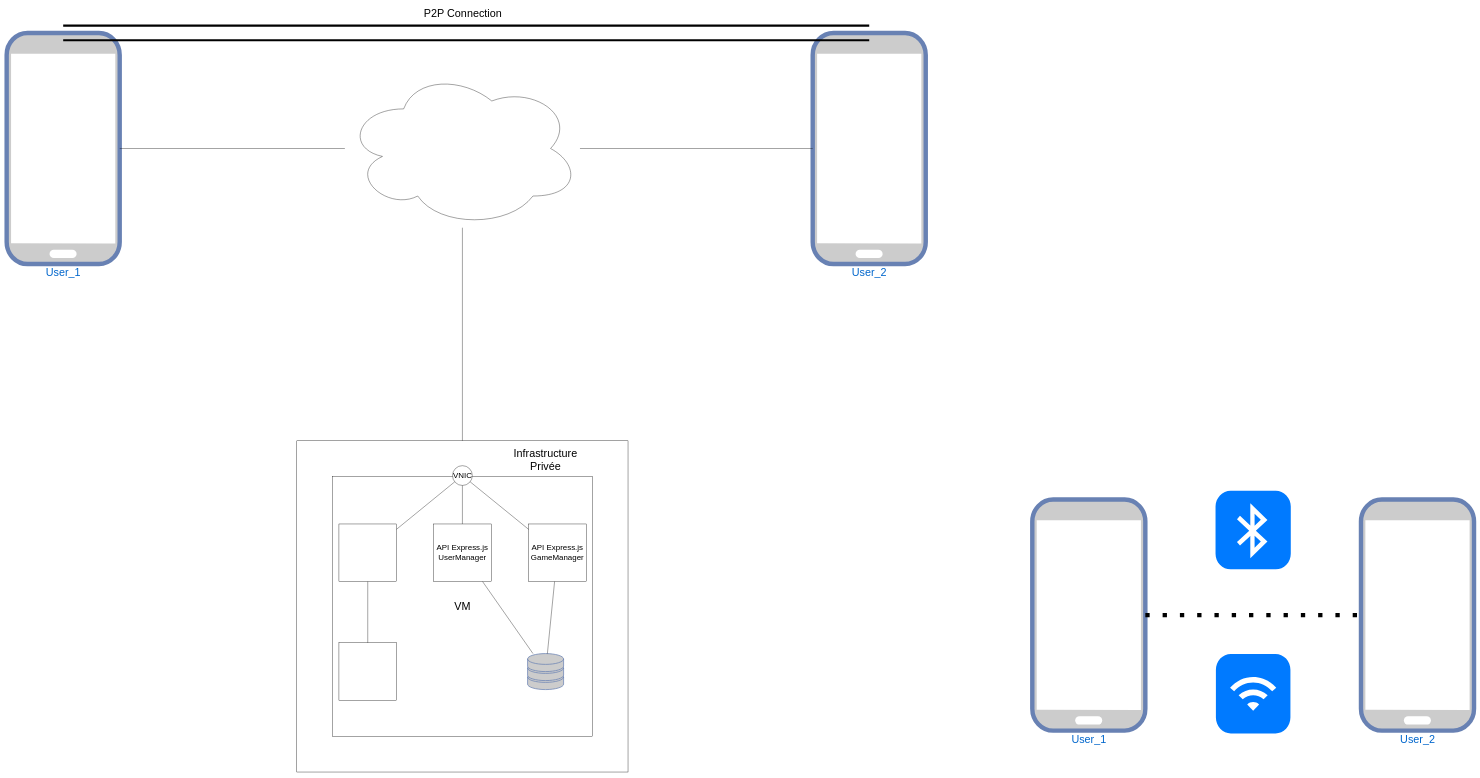
Some shapes in this 1480 by 778 pixel diagram are drawn without their labels. Here are the shapes that lost their labels. From the top down, the centre of each, then its label:
At (x=462, y=148): "Public Network".
At (x=368, y=553): "Grafana".
At (x=368, y=671): "Prometheus".
At (x=545, y=671): "MySQL".
